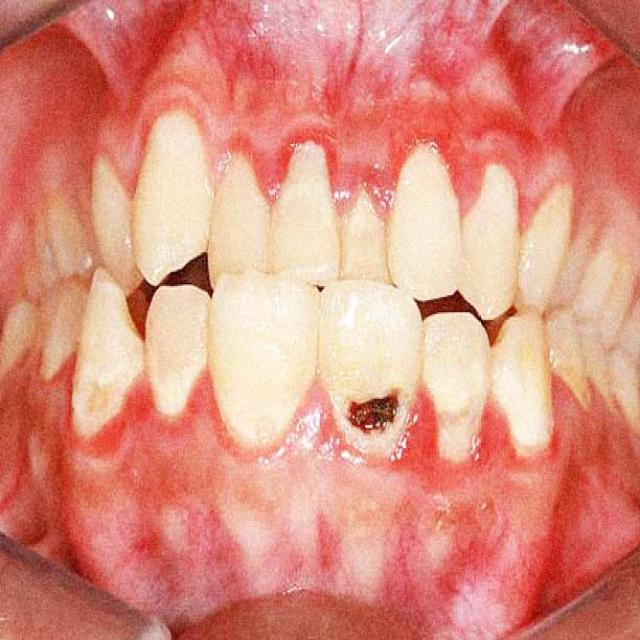caries: (344, 361, 404, 442)
